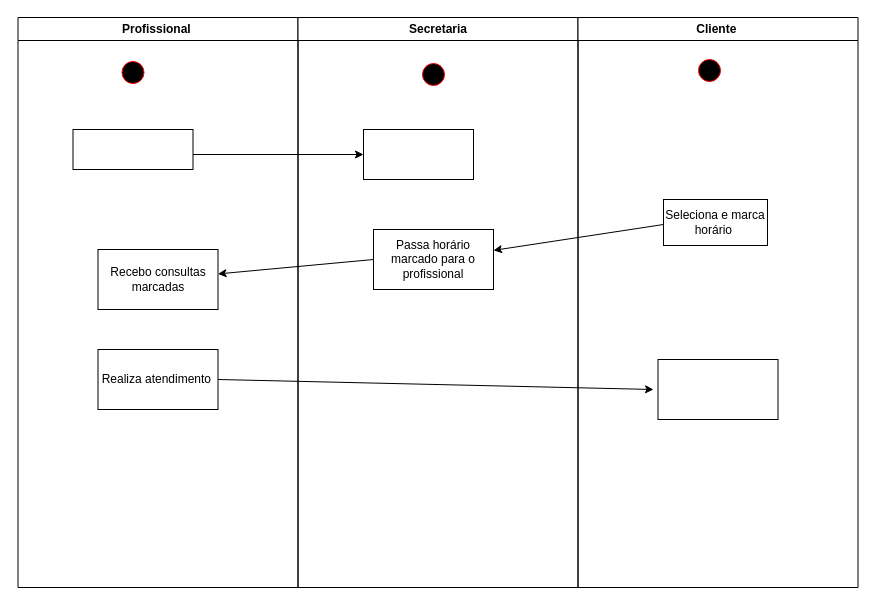
Image size: 875x605. Some labels were removed from this diagram. Here are the shapes that lost their labels. From the top down, the centre of each, then its label:
the point at 132,149: Passa os horários disponíveis
the point at 418,154: Disponibiliza horários no site
the point at 717,389: Recebe atendimento
